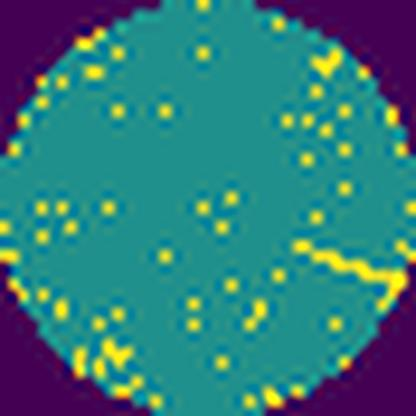Scratch: (290, 238, 408, 314)
